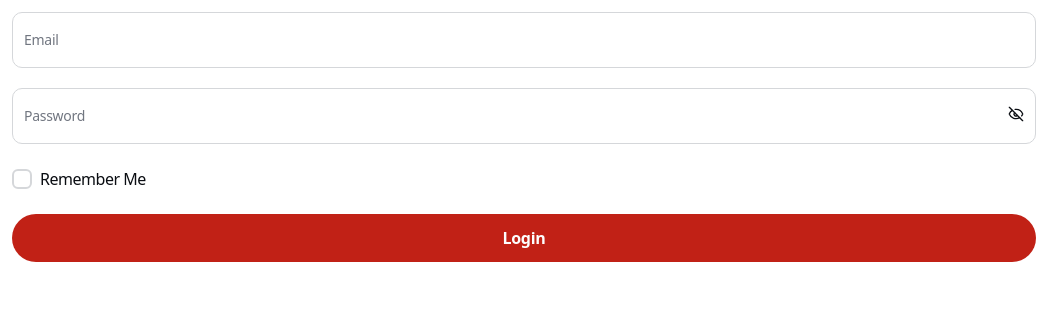
LoginForm › shows validation errors instead of submitting when the form is empty
What coordinates should you click on to do the following:
click the button "Login"
I would click on:
 (524, 238)
Its box is [12,214,1036,262].
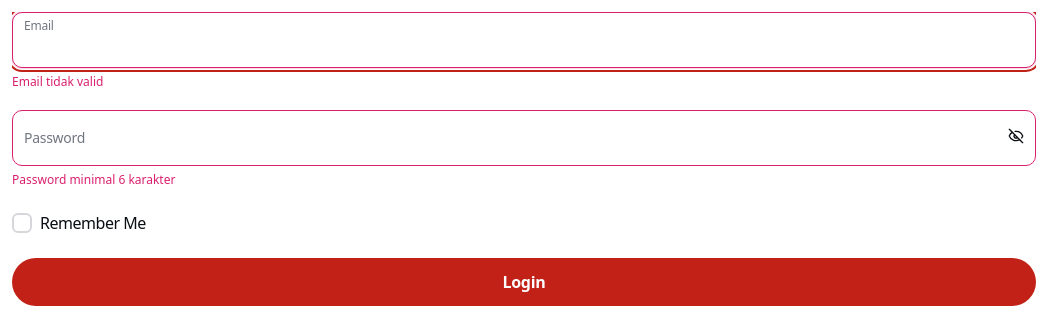
Check: the text "Email tidak valid" is shown, box [12,73,103,90]
Check: the text "Password minimal 6 karakter" is shown, box [12,171,175,188]
